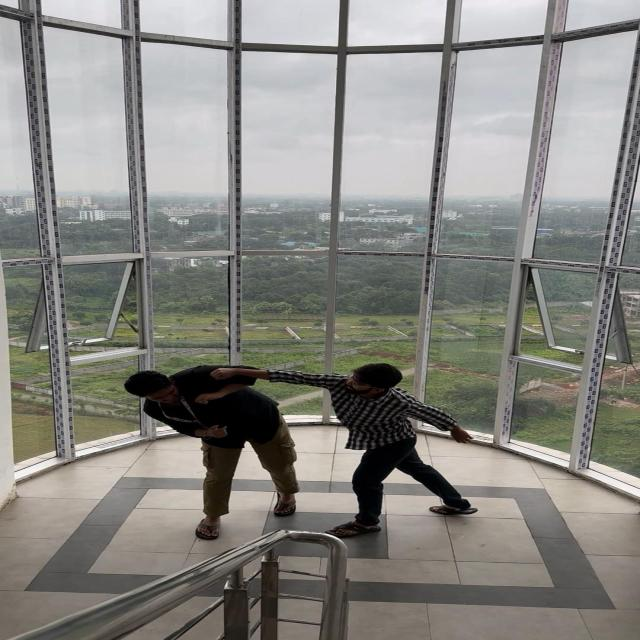fight: (84, 327, 516, 553)
